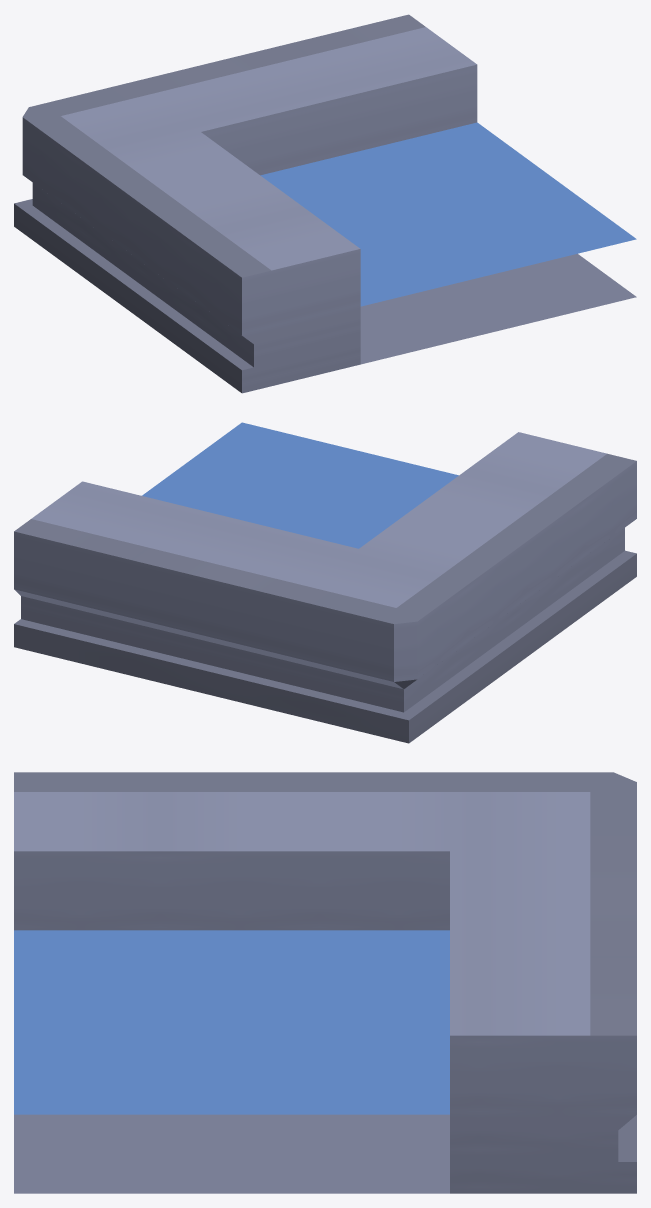
Rendered from fountainCorner.fbx.
3 renders of one model, top to bottom at view 1: azimuth 30°, elevation 25°; view 2: azimuth 150°, elevation 25°; view 3: azimuth 270°, elevation 25°, orthographic. The views are drawn at different scales.
Visible parts, largest first — view 1: fountainCorner; view 2: fountainCorner; view 3: fountainCorner.
Part boxes in pixels (<box>): fountainCorner: <box>14,14,636,393</box>; fountainCorner: <box>14,422,636,743</box>; fountainCorner: <box>14,772,636,1193</box>.
Size of the model in its own units: 1 by 1 by 0.28.
